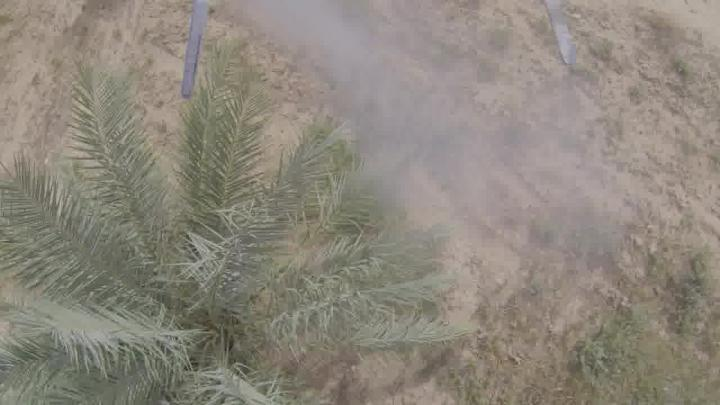Date-Palm-Crown: (20, 145, 382, 405)
